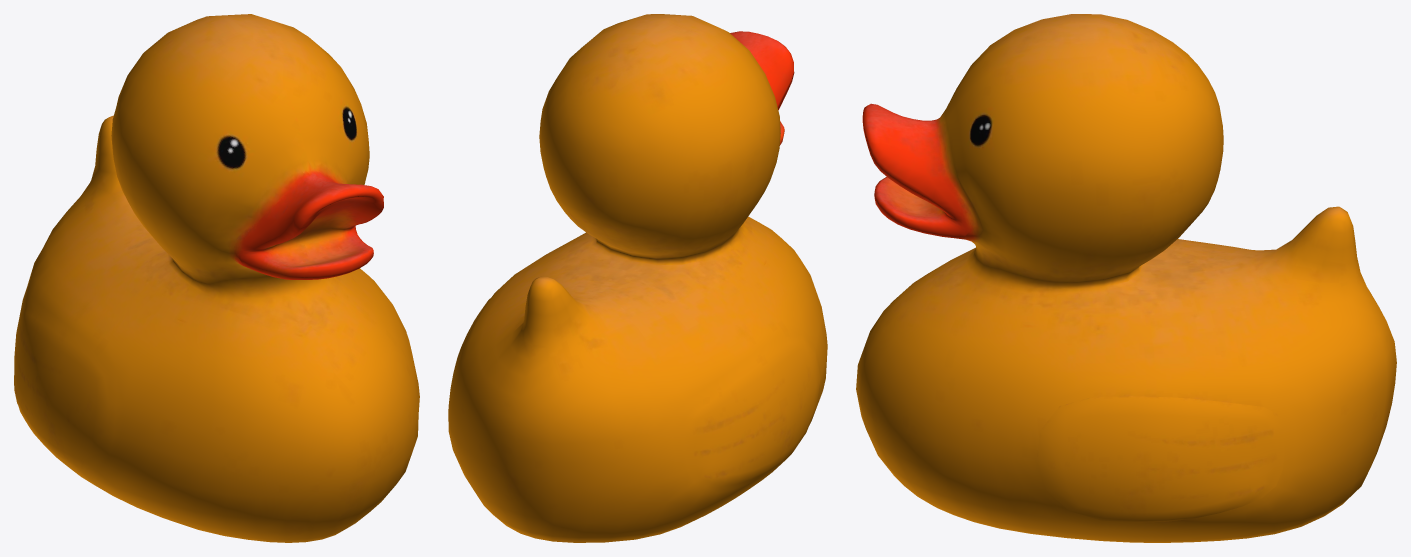
The model's file is rubber_duck_toy.gltf.
The picture shows the model from 3 angles, left to right: view 1: azimuth 30°, elevation 25°; view 2: azimuth 150°, elevation 25°; view 3: azimuth 270°, elevation 25°; orthographic projection. The views are drawn at different scales.
Visible parts, largest first — view 1: rubber_duck_toy; view 2: rubber_duck_toy; view 3: rubber_duck_toy.
Boxes of the visible parts, x1,y1,x2,y2 form: rubber_duck_toy: (14, 14, 419, 542); rubber_duck_toy: (448, 14, 827, 542); rubber_duck_toy: (856, 14, 1396, 542).
Bounding box in the file's own units: 0.2135 × 0.2855 × 0.3.
1 material, 1 textured.
